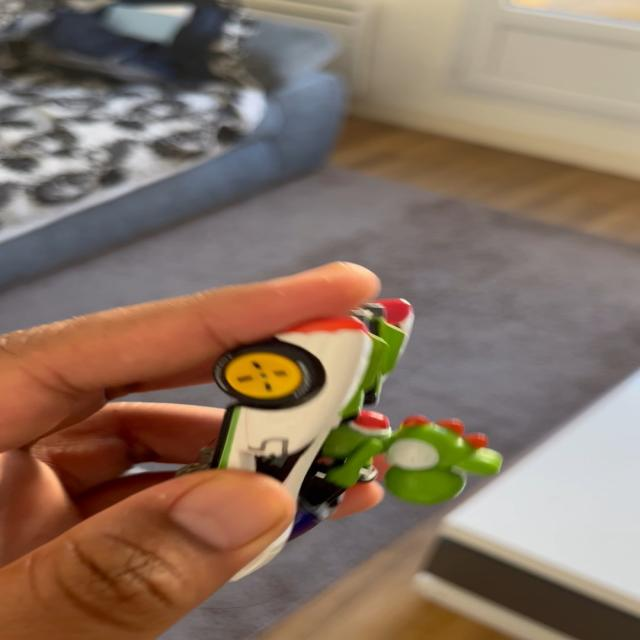yoshi: (196, 286, 537, 554)
